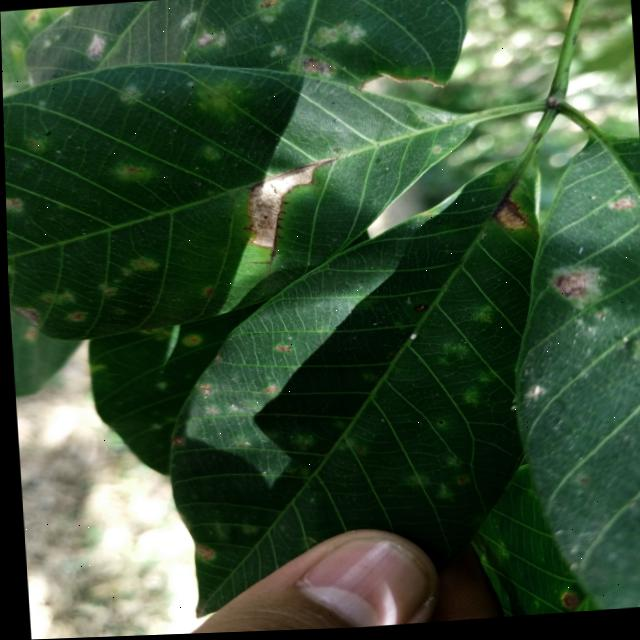Corynespora: (264, 203, 289, 267), (502, 199, 528, 232), (309, 159, 336, 173)
Leaf-Blight: (245, 167, 320, 251), (494, 208, 523, 234)
